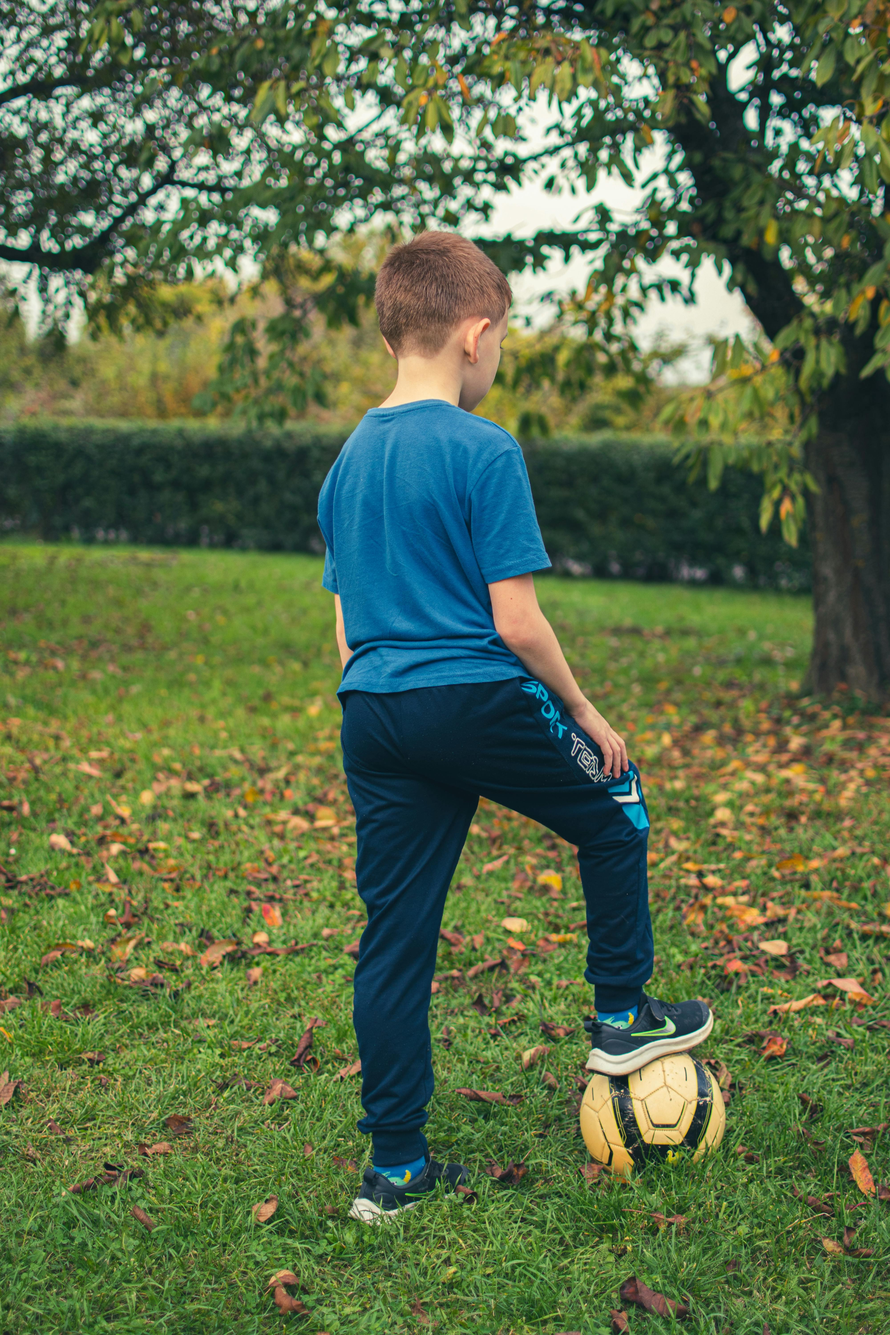Human: (323, 208, 720, 1192)
